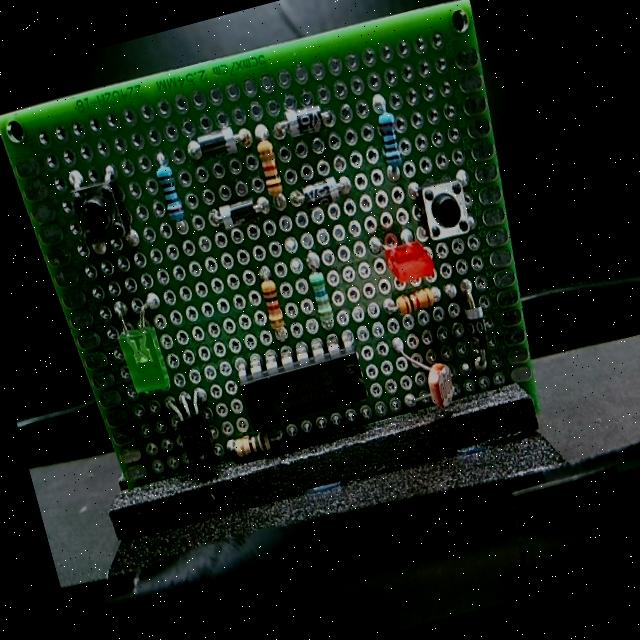IC: (230, 342, 374, 438)
diode: (180, 110, 256, 170), (458, 293, 504, 372), (272, 94, 334, 145), (291, 171, 353, 216), (209, 192, 265, 234)
led: (105, 310, 181, 394), (379, 224, 440, 291)
resistor: (149, 151, 197, 239), (413, 349, 463, 414), (255, 272, 298, 347), (250, 135, 292, 208), (372, 95, 412, 170), (303, 256, 340, 333), (224, 422, 278, 468), (388, 276, 442, 320)
switch: (63, 167, 133, 254), (416, 172, 478, 247)
transistor: (163, 381, 226, 467)
